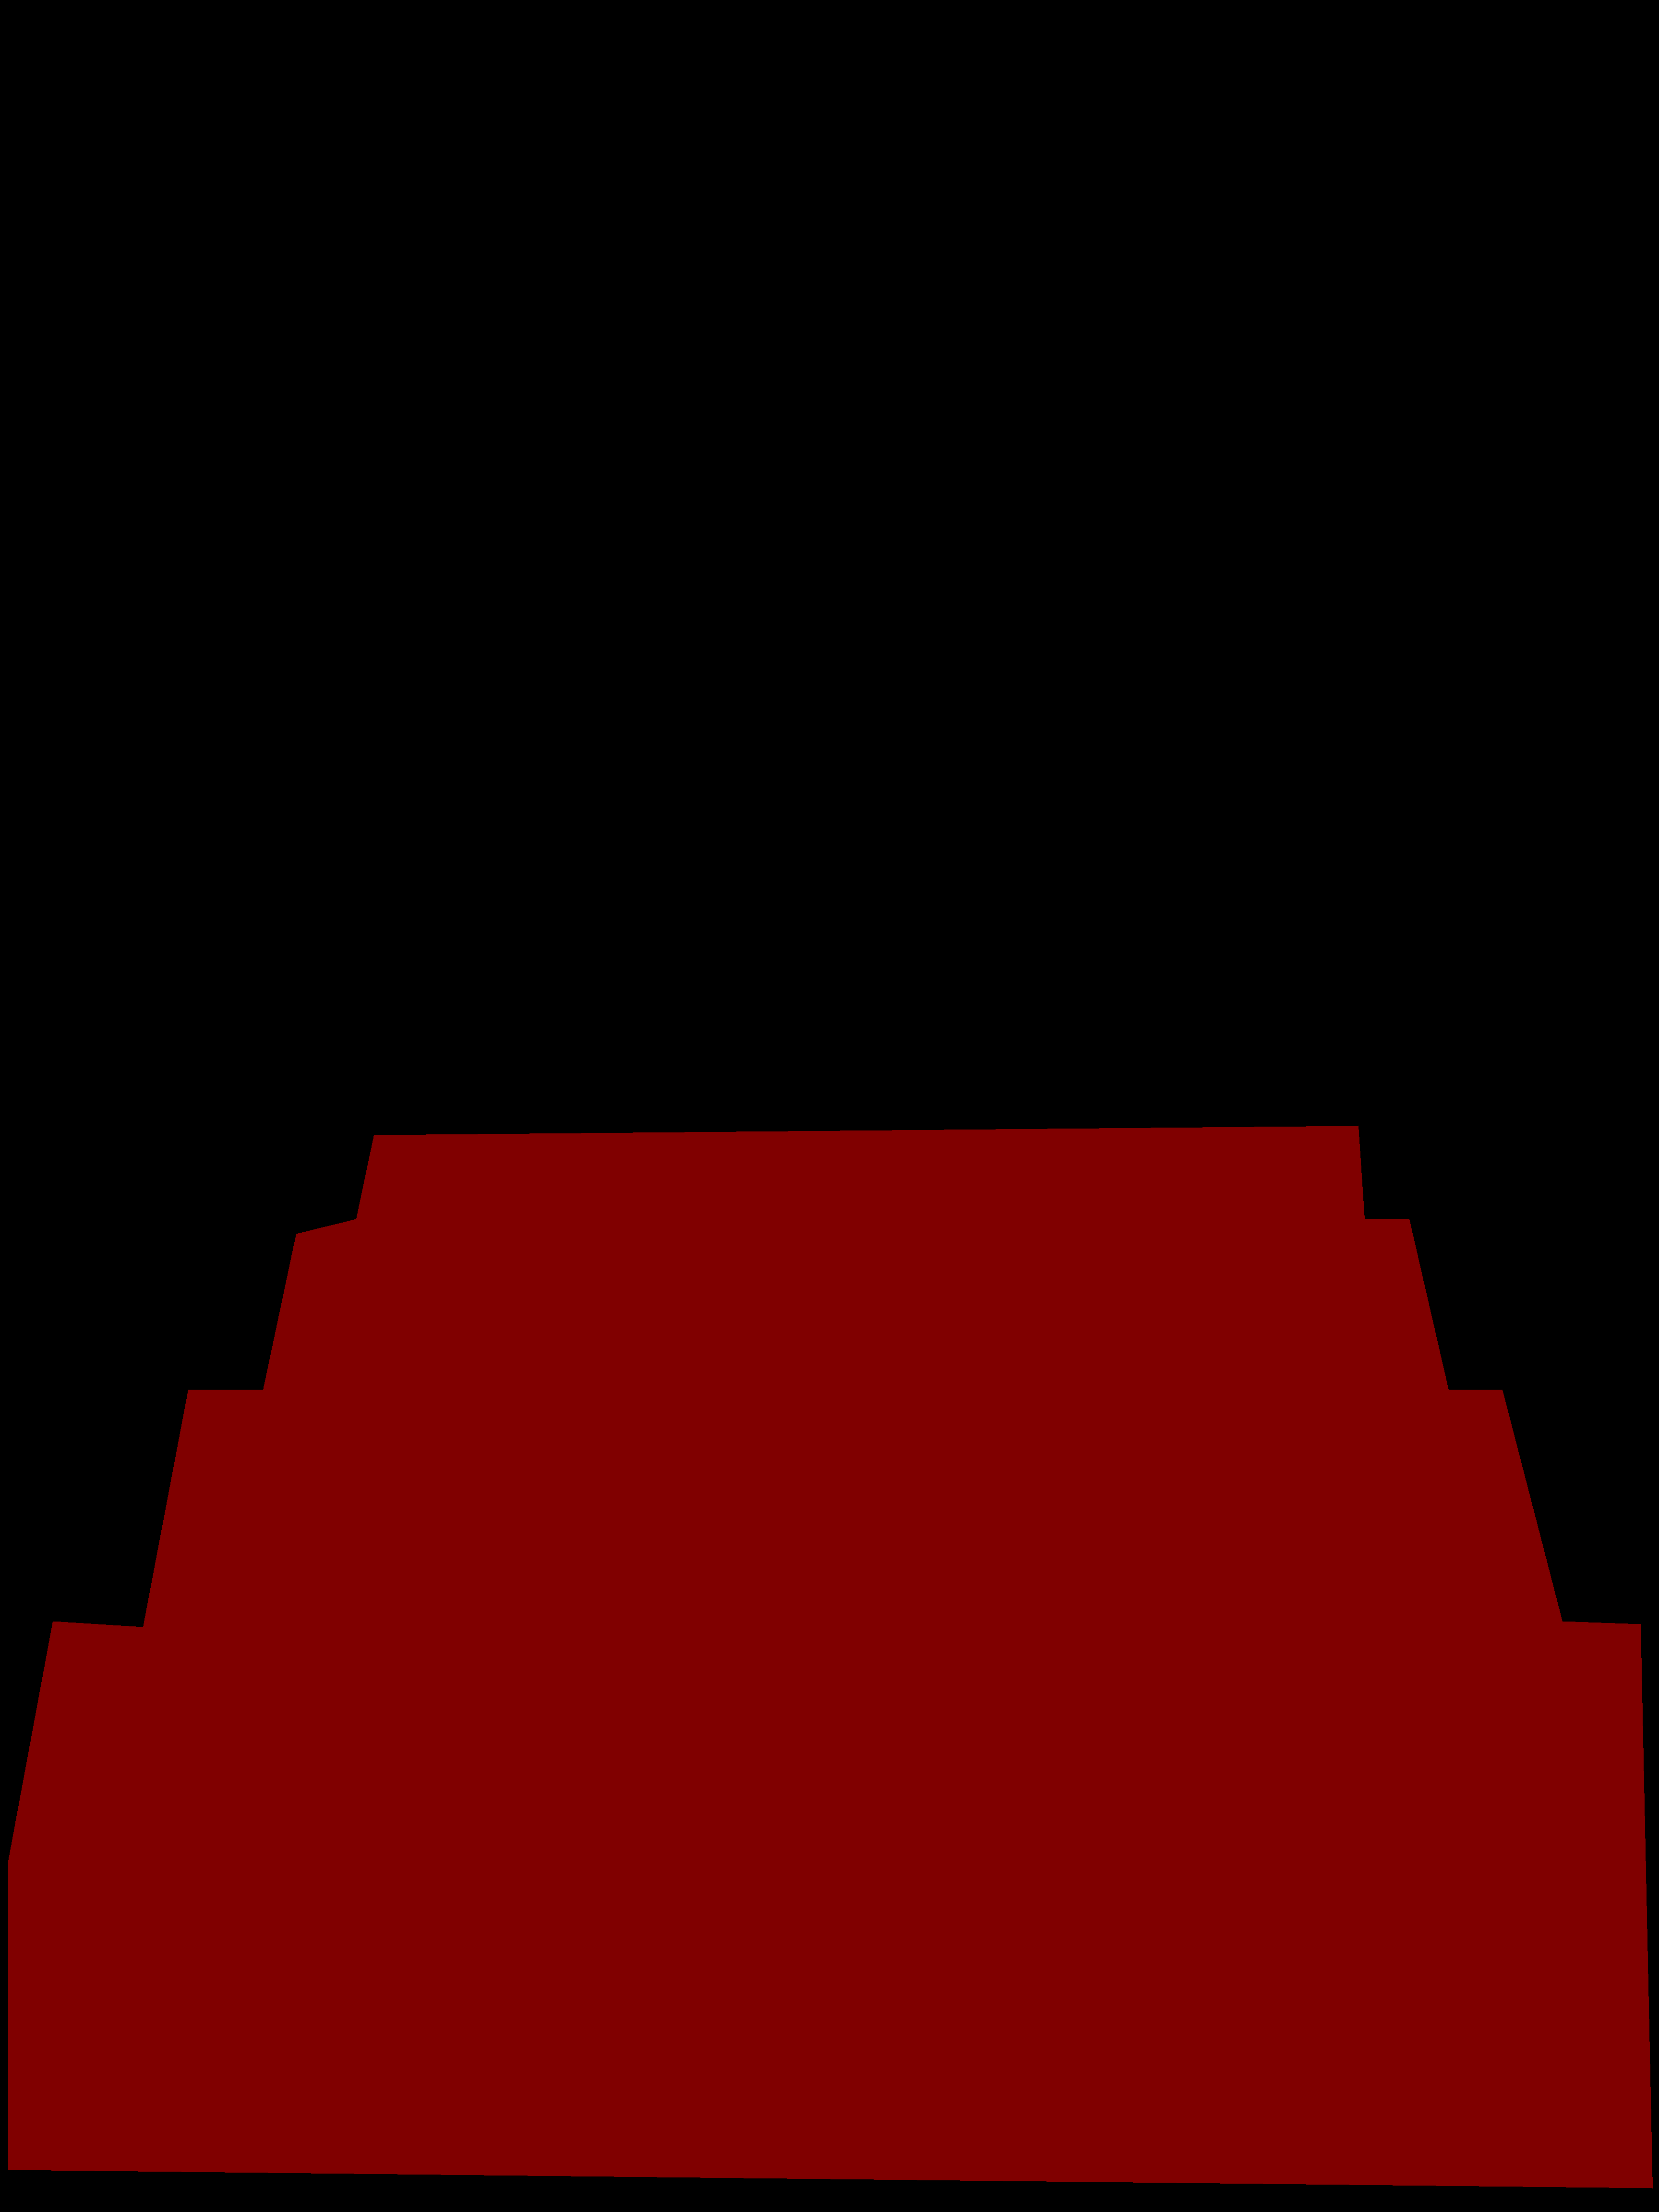stair: (9, 1125, 1652, 2188)
